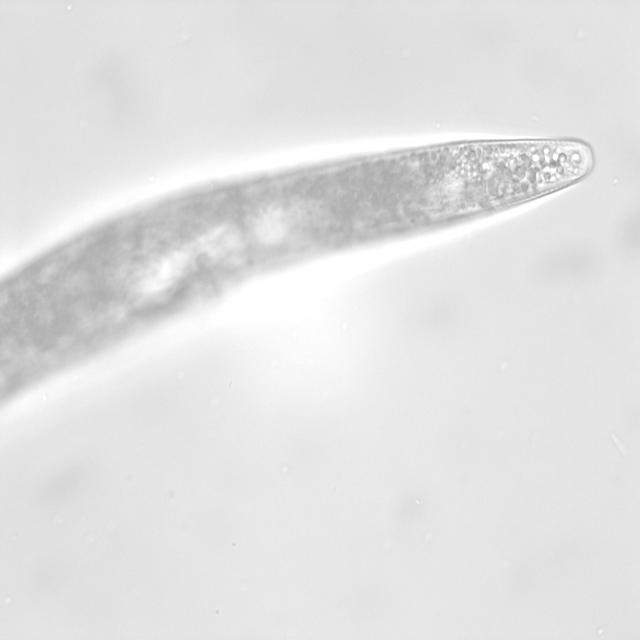Pratylenchus: (226, 137, 623, 249)
